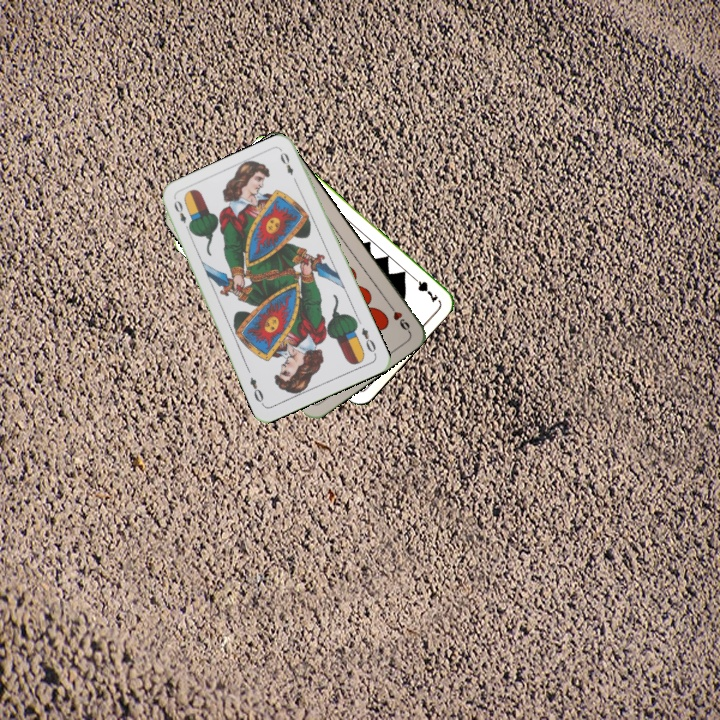EO: (170, 196, 193, 234), (357, 323, 379, 358)
G7: (407, 271, 441, 305)
H9: (384, 299, 413, 334)
